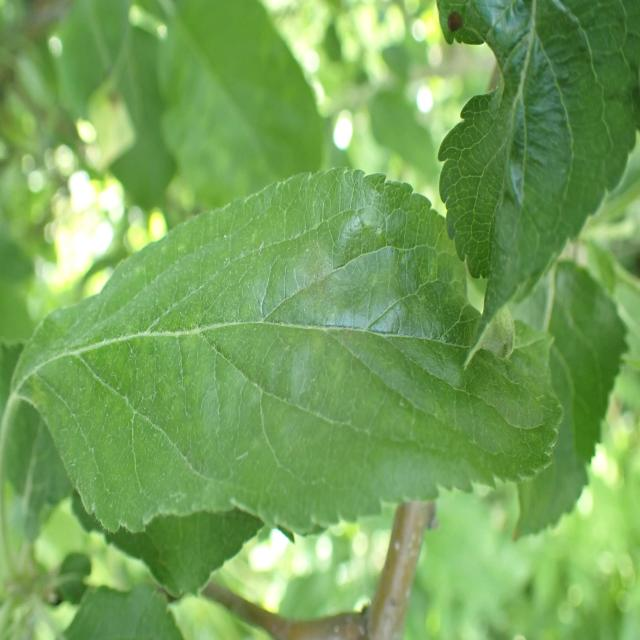scab: (95, 236, 502, 467)
